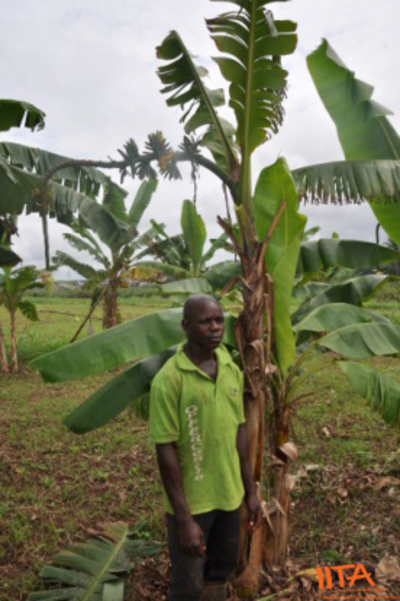bananaHand: (105, 125, 203, 184)
